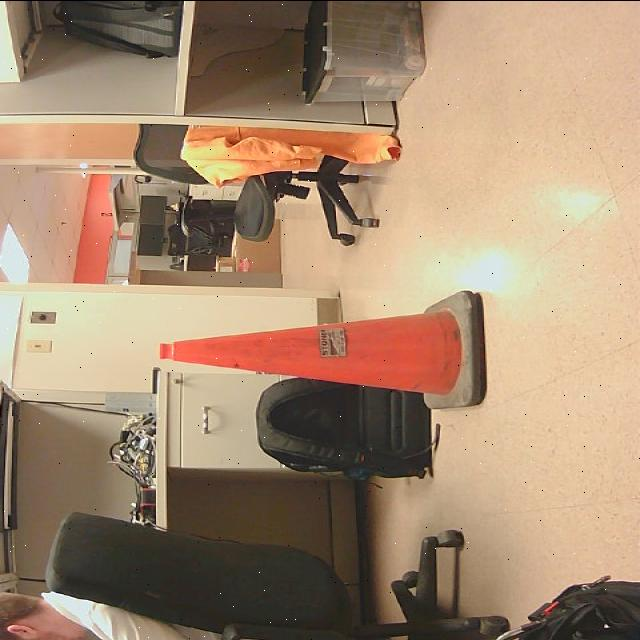traffic cone: (160, 290, 489, 409)
